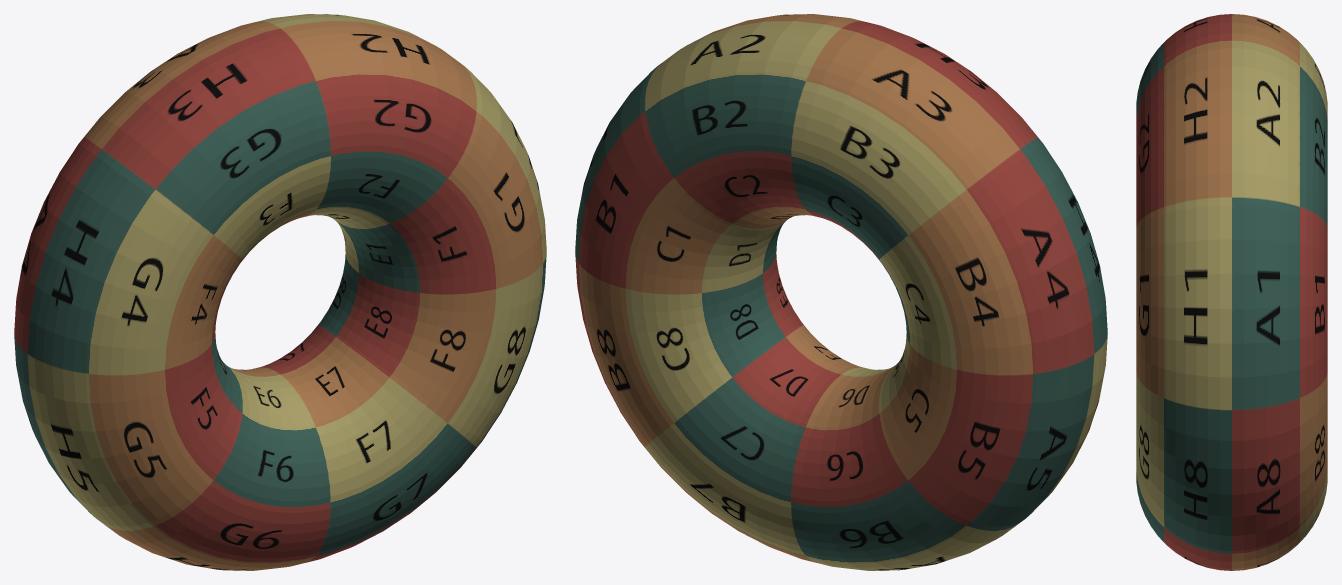
Rendered from texture_torus_R12_r28.glb.
The picture shows the model from 3 angles, left to right: view 1: azimuth 30°, elevation 25°; view 2: azimuth 150°, elevation 25°; view 3: azimuth 270°, elevation 25°; orthographic projection. The views are drawn at different scales.
Parts seen in each view (by area): view 1: world; view 2: world; view 3: world.
Boxes of the visible parts, x1,y1,x2,y2 form: world: (14,14,546,570); world: (575,14,1107,570); world: (1136,14,1327,570).
Size of the model in its own units: 27.47 by 27.41 by 9.45.
1 material, 1 textured.
